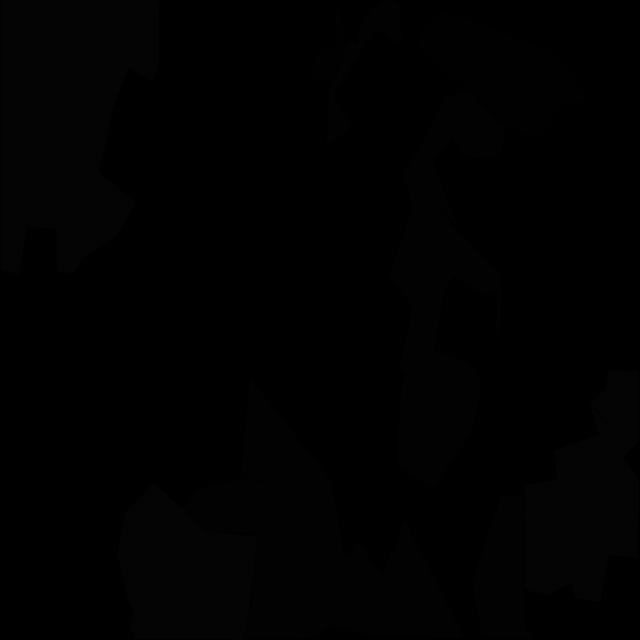cardboard: (241, 377, 535, 639), (388, 191, 501, 487), (183, 479, 330, 639), (403, 92, 506, 225), (327, 0, 404, 147)
rigid_plastic: (418, 11, 589, 140), (310, 3, 345, 84)
soft_plastic: (0, 0, 159, 275), (524, 405, 639, 602), (117, 482, 257, 640), (590, 370, 639, 458)
